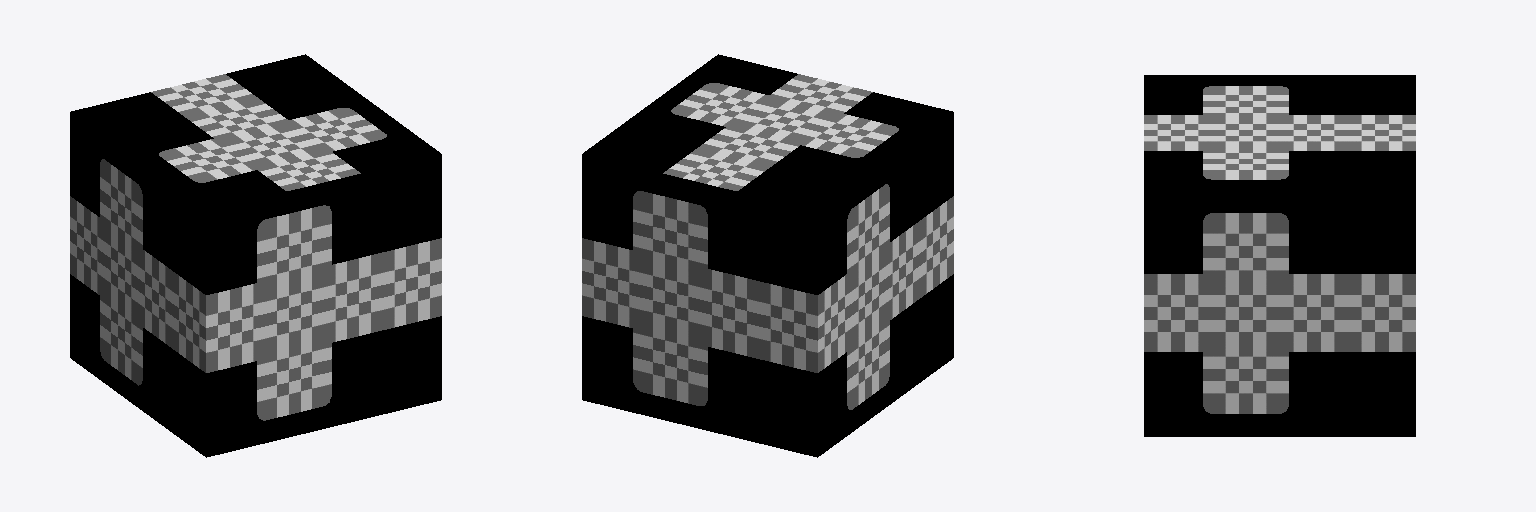
3 views of the same model, side by side, from view 1: azimuth 30°, elevation 25°; view 2: azimuth 150°, elevation 25°; view 3: azimuth 270°, elevation 25° (orthographic).
Parts seen in each view (by area): view 1: Cube; view 2: Cube; view 3: Cube.
Boxes of the visible parts, x1=… form: Cube: x1=70, y1=54, x2=441, y2=457; Cube: x1=582, y1=54, x2=953, y2=457; Cube: x1=1144, y1=75, x2=1415, y2=436.
Size of the model in its own units: 2 by 2 by 2.
1 materials, 1 textured.